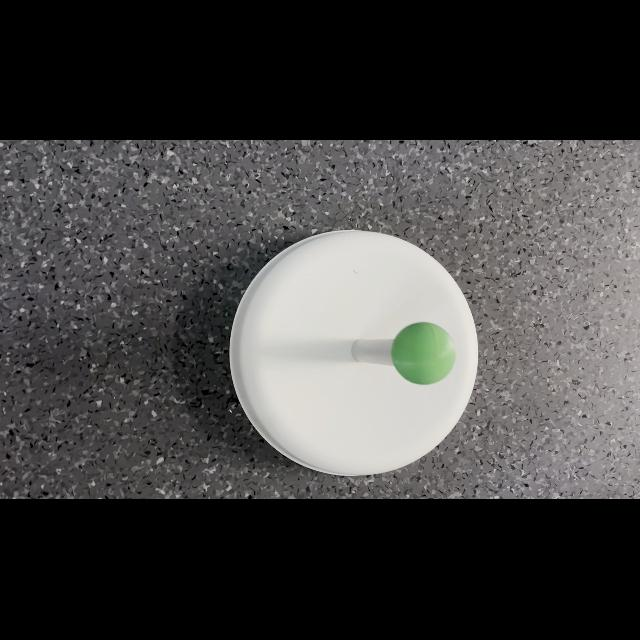objects: (378, 312, 464, 392)
